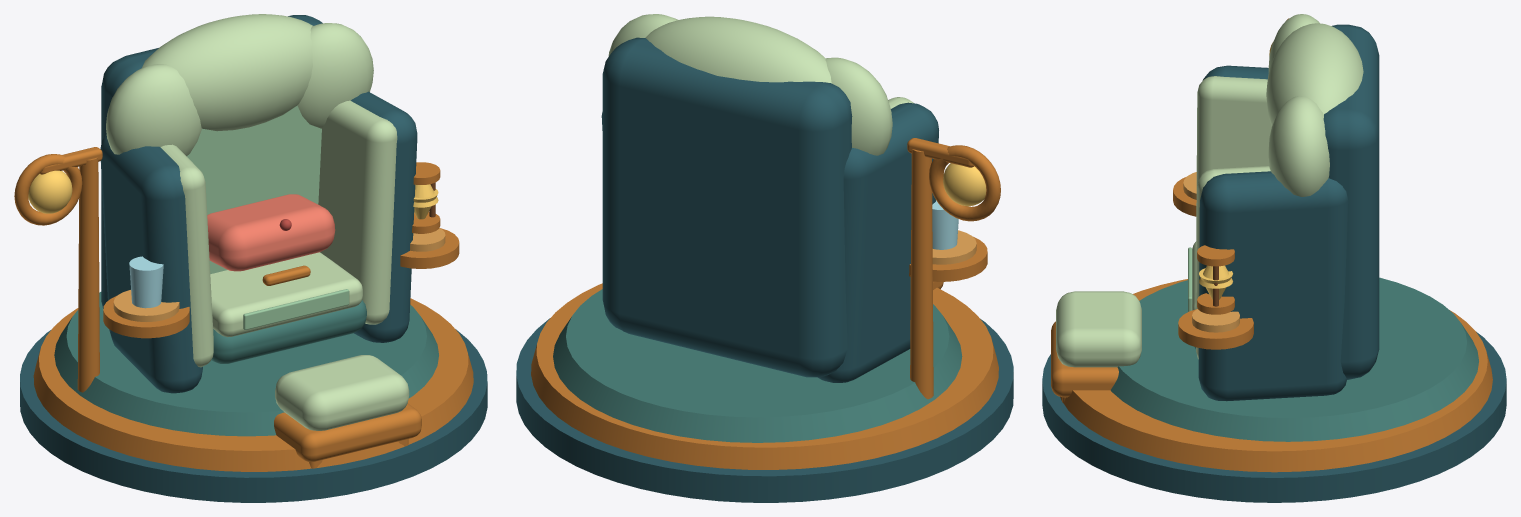
File: calming-chair.glb
The picture shows the model from 3 angles, left to right: view 1: azimuth 30°, elevation 25°; view 2: azimuth 150°, elevation 25°; view 3: azimuth 270°, elevation 25°; orthographic projection. The views are drawn at different scales.
Visible parts, largest first — view 1: stable-wide-circular-floor-base-and-finished-underside-surfa (×3), cocoon-chair-shell-with-open-forward-exit-surface-4, cocoon-chair-shell-with-open-forward-exit-surface-16, cocoon-chair-shell-with-open-forward-exit-surface-12, cocoon-chair-shell-with-open-forward-exit-surface-2, separate-low-rounded-footrest-surface-2, coral-weighted-lap-pillow-with-carry-handle-surface-0, cocoon-chair-shell-with-open-forward-exit-surface-8, thick-removable-seat-cushion-surface-2, cocoon-chair-shell-with-open-forward-exit-surface-10, cocoon-chair-shell-with-open-forward-exit-surface-14, cocoon-chair-shell-with-open-forward-exit-surface-6 (+15 smaller); view 2: cocoon-chair-shell-with-open-forward-exit-surface-0, stable-wide-circular-floor-base-and-finished-underside-surfa (×3), cocoon-chair-shell-with-open-forward-exit-surface-4, cocoon-chair-shell-with-open-forward-exit-surface-16, warm-side-light-and-water-cup-tray-surface-0, cocoon-chair-shell-with-open-forward-exit-surface-8, warm-side-light-and-water-cup-tray-surface-4, warm-side-light-and-water-cup-tray-surface-6, warm-side-light-and-water-cup-tray-surface-7, warm-side-light-and-water-cup-tray-surface-11, cocoon-chair-shell-with-open-forward-exit-surface-14, warm-side-light-and-water-cup-tray-surface-9 (+1 smaller); view 3: stable-wide-circular-floor-base-and-finished-underside-surfa (×3), cocoon-chair-shell-with-open-forward-exit-surface-10, cocoon-chair-shell-with-open-forward-exit-surface-0, cocoon-chair-shell-with-open-forward-exit-surface-6, cocoon-chair-shell-with-open-forward-exit-surface-16, separate-low-rounded-footrest-surface-2, cocoon-chair-shell-with-open-forward-exit-surface-14, separate-low-rounded-footrest-surface-0, pause-hourglass-on-opposite-arm-surface-0, cocoon-chair-shell-with-open-forward-exit-surface-12, pause-hourglass-on-opposite-arm-surface-2, cocoon-chair-shell-with-open-forward-exit-surface-8 (+4 smaller).
Part boxes in pixels (<box>): stable-wide-circular-floor-base-and-finished-underside-surfa (×3): <box>20,292,487,502</box>; cocoon-chair-shell-with-open-forward-exit-surface-4: <box>100,133,202,393</box>; cocoon-chair-shell-with-open-forward-exit-surface-16: <box>142,14,312,131</box>; cocoon-chair-shell-with-open-forward-exit-surface-12: <box>318,100,397,324</box>; cocoon-chair-shell-with-open-forward-exit-surface-2: <box>187,105,321,273</box>; separate-low-rounded-footrest-surface-2: <box>275,355,409,430</box>; coral-weighted-lap-pillow-with-carry-handle-surface-0: <box>207,194,335,271</box>; cocoon-chair-shell-with-open-forward-exit-surface-8: <box>106,64,201,156</box>; thick-removable-seat-cushion-surface-2: <box>210,252,362,337</box>; cocoon-chair-shell-with-open-forward-exit-surface-10: <box>351,91,417,342</box>; cocoon-chair-shell-with-open-forward-exit-surface-14: <box>297,23,373,128</box>; cocoon-chair-shell-with-open-forward-exit-surface-6: <box>160,144,213,367</box>; cocoon-chair-shell-with-open-forward-exit-surface-0: <box>602,37,852,377</box>; stable-wide-circular-floor-base-and-finished-underside-surfa (×3): <box>516,283,1013,502</box>; cocoon-chair-shell-with-open-forward-exit-surface-4: <box>818,102,938,382</box>; cocoon-chair-shell-with-open-forward-exit-surface-16: <box>645,16,831,83</box>; warm-side-light-and-water-cup-tray-surface-0: <box>910,149,933,399</box>; cocoon-chair-shell-with-open-forward-exit-surface-8: <box>825,57,892,155</box>; warm-side-light-and-water-cup-tray-surface-4: <box>929,145,1000,221</box>; warm-side-light-and-water-cup-tray-surface-6: <box>943,163,986,206</box>; warm-side-light-and-water-cup-tray-surface-7: <box>909,236,987,281</box>; warm-side-light-and-water-cup-tray-surface-11: <box>932,200,958,249</box>; cocoon-chair-shell-with-open-forward-exit-surface-14: <box>608,14,677,56</box>; warm-side-light-and-water-cup-tray-surface-9: <box>932,230,976,264</box>; stable-wide-circular-floor-base-and-finished-underside-surfa (×3): <box>1042,277,1506,502</box>; cocoon-chair-shell-with-open-forward-exit-surface-10: <box>1198,171,1348,401</box>; cocoon-chair-shell-with-open-forward-exit-surface-0: <box>1323,24,1379,379</box>; cocoon-chair-shell-with-open-forward-exit-surface-6: <box>1196,76,1271,240</box>; cocoon-chair-shell-with-open-forward-exit-surface-16: <box>1266,23,1363,125</box>; separate-low-rounded-footrest-surface-2: <box>1056,291,1141,367</box>; cocoon-chair-shell-with-open-forward-exit-surface-14: <box>1268,96,1329,196</box>; separate-low-rounded-footrest-surface-0: <box>1051,321,1118,397</box>; pause-hourglass-on-opposite-arm-surface-0: <box>1178,309,1253,349</box>; cocoon-chair-shell-with-open-forward-exit-surface-12: <box>1196,166,1270,359</box>; pause-hourglass-on-opposite-arm-surface-2: <box>1192,309,1239,332</box>; cocoon-chair-shell-with-open-forward-exit-surface-8: <box>1268,14,1319,72</box>.
Bounding box in the file's own units: 1.75 × 1.44 × 1.64.
